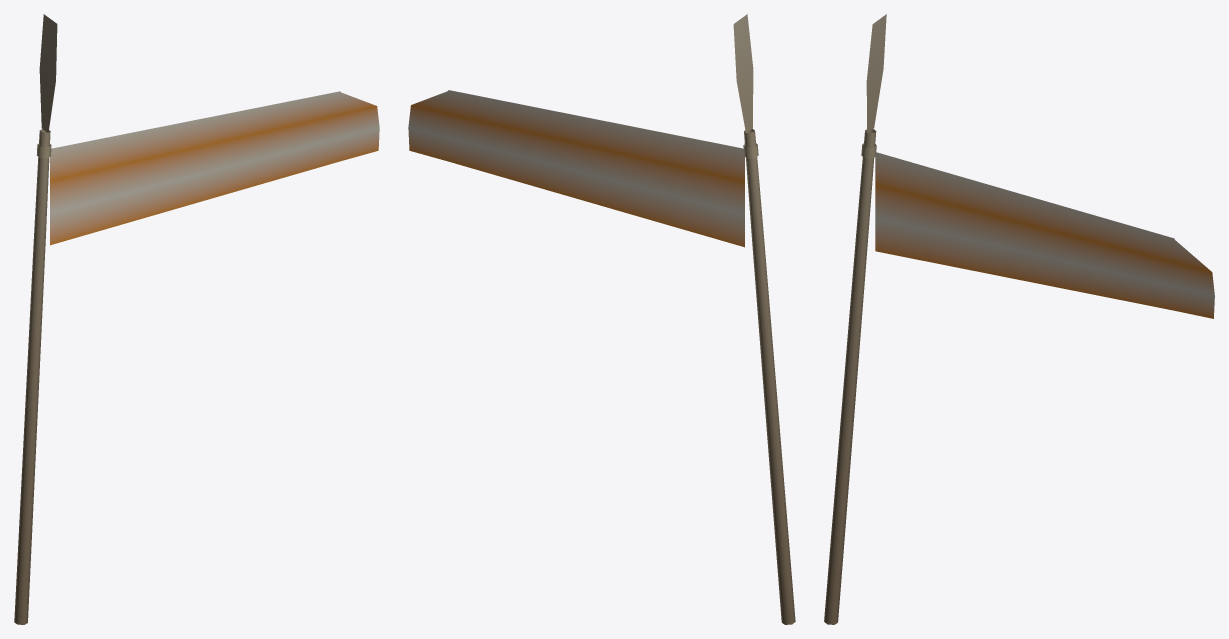
The model's file is oar_flag.glb.
3 renders of one model, left to right at view 1: azimuth 30°, elevation 25°; view 2: azimuth 150°, elevation 25°; view 3: azimuth 330°, elevation 25°, orthographic. The views are drawn at different scales.
Visible parts, largest first — view 1: oar_flag; view 2: oar_flag; view 3: oar_flag.
Boxes of the visible parts, <box> form: oar_flag: <box>14,14,379,624</box>; oar_flag: <box>408,14,795,624</box>; oar_flag: <box>824,14,1214,624</box>.
Size of the model in its own units: 3.14 by 4.76 by 0.2876.
